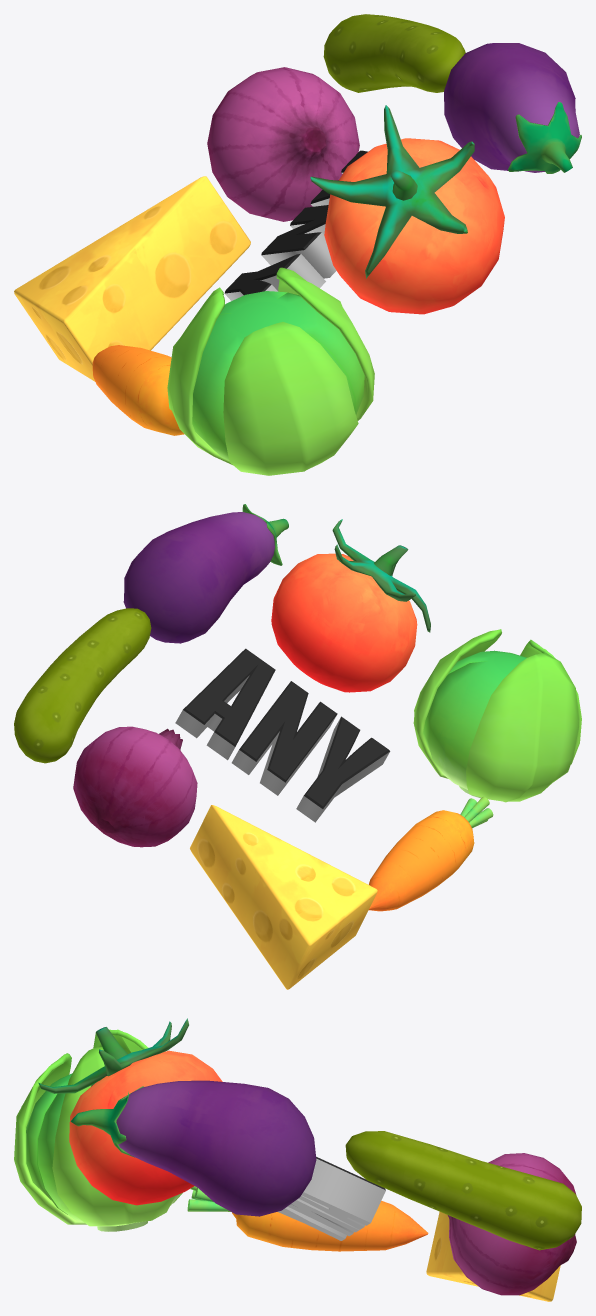
File: all_veggies.glb
The picture shows the model from 3 angles, top to bottom: view 1: azimuth 30°, elevation 25°; view 2: azimuth 150°, elevation 25°; view 3: azimuth 270°, elevation 25°; orthographic projection. The views are drawn at different scales.
Visible parts, largest first — view 1: Lettuce, Tomato, Cheese, Onion, Eggplant, Pickle, Carrot, Text; view 2: Lettuce, Cheese, Tomato, Text, Eggplant, Onion, Pickle, Carrot; view 3: Eggplant, Pickle, Lettuce, Tomato, Onion, Carrot, Text, Cheese.
Part boxes in pixels (left/top/right/bottom): Lettuce: left=167, top=267, right=374, bottom=475; Tomato: left=310, top=105, right=504, bottom=314; Cheese: left=14, top=176, right=250, bottom=381; Onion: left=207, top=67, right=359, bottom=221; Eggplant: left=444, top=43, right=581, bottom=173; Pickle: left=323, top=14, right=465, bottom=92; Carrot: left=92, top=345, right=184, bottom=435; Text: left=224, top=150, right=367, bottom=300; Lettuce: left=413, top=629, right=581, bottom=802; Cheese: left=190, top=805, right=377, bottom=989; Tomato: left=271, top=519, right=430, bottom=692; Text: left=175, top=648, right=390, bottom=822; Eggplant: left=123, top=504, right=288, bottom=643; Onion: left=73, top=726, right=197, bottom=847; Pickle: left=14, top=608, right=151, bottom=763; Carrot: left=369, top=796, right=493, bottom=911; Eggplant: left=70, top=1080, right=316, bottom=1216; Pickle: left=345, top=1131, right=581, bottom=1250; Lettuce: left=14, top=1029, right=182, bottom=1231; Tomato: left=38, top=1018, right=222, bottom=1205; Onion: left=447, top=1153, right=576, bottom=1295; Carrot: left=187, top=1186, right=428, bottom=1251; Text: left=277, top=1156, right=385, bottom=1240; Cheese: left=426, top=1212, right=560, bottom=1301.
Size of the model in its own units: 1.44 by 1.09 by 1.63.
Materials: 8 (8 with a texture image).
